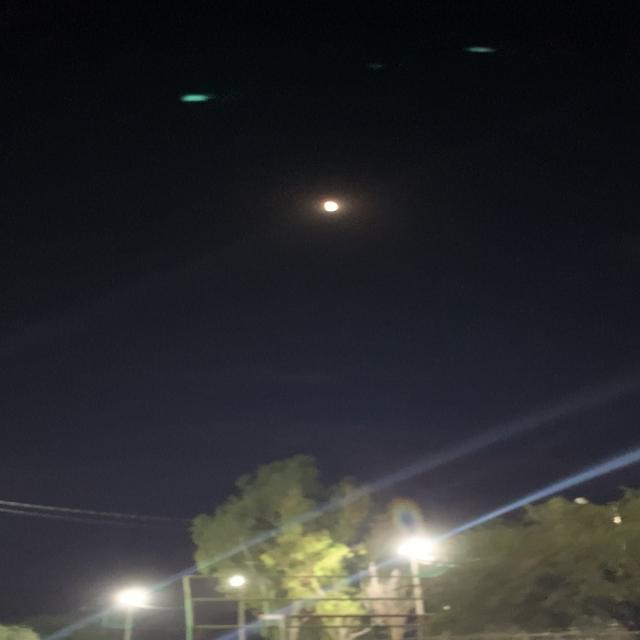moon: (304, 202, 360, 230)
